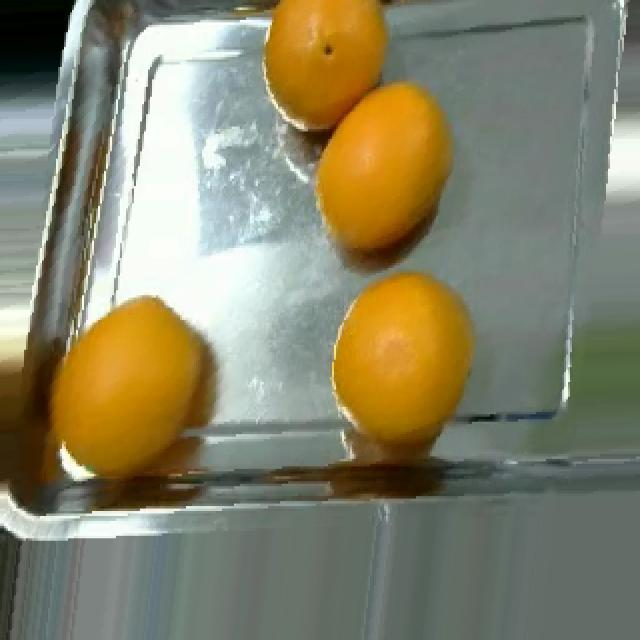Good_Orange: (54, 295, 202, 479), (330, 270, 476, 449), (314, 82, 456, 260), (262, 0, 392, 134)
